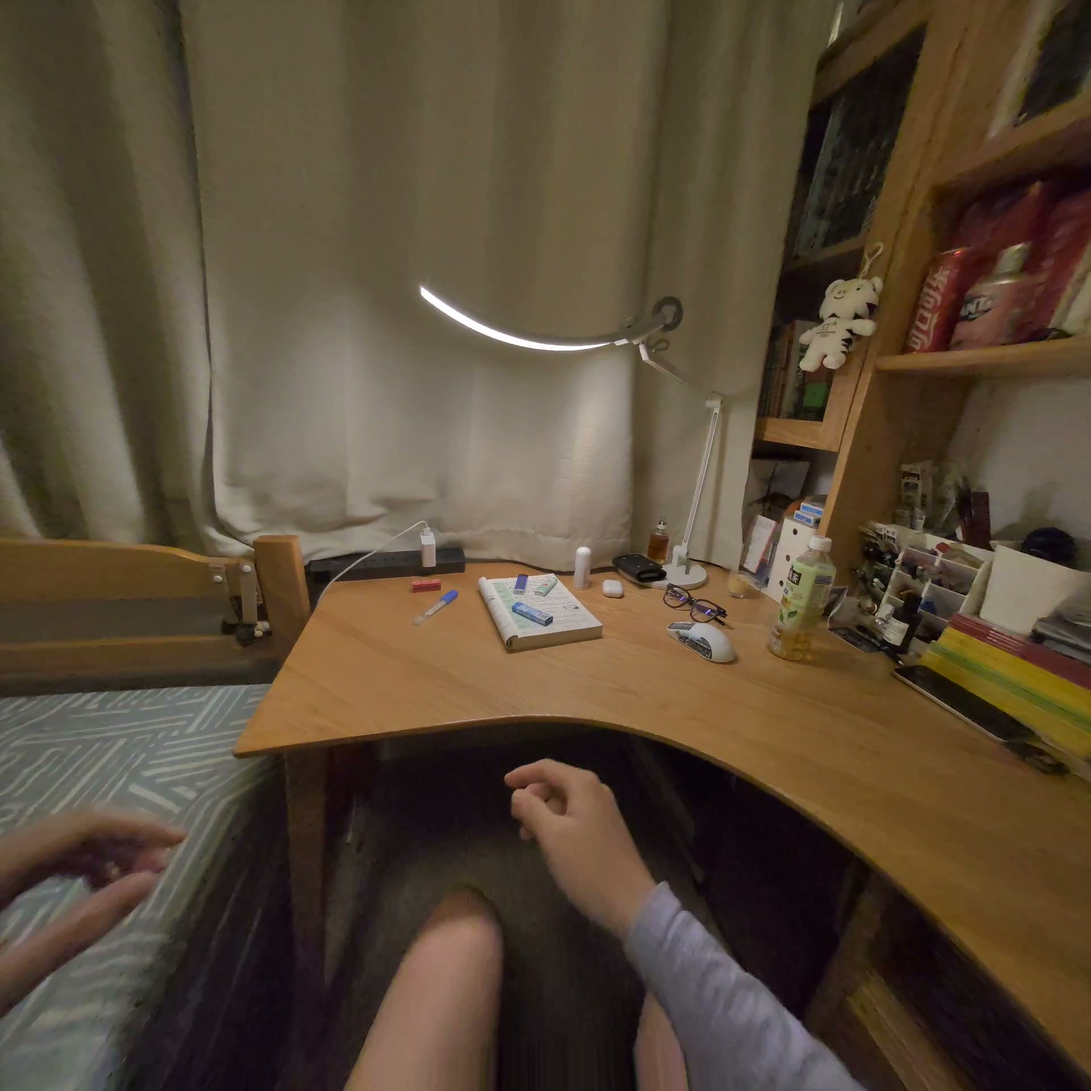lighter: (511, 600, 553, 626)
